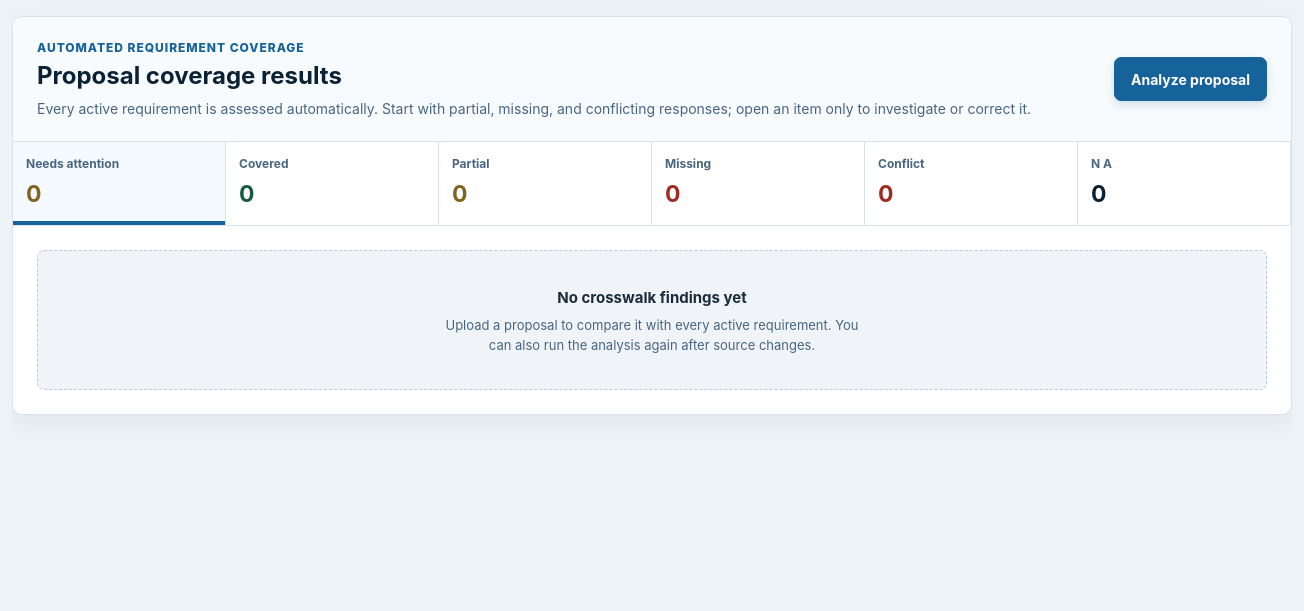
it: product workflow components › reloads findings and preserves the failure detail when manual analysis fails
Click the button "Analyze proposal" at {"x": 1190, "y": 79}, box [1114, 57, 1267, 101]
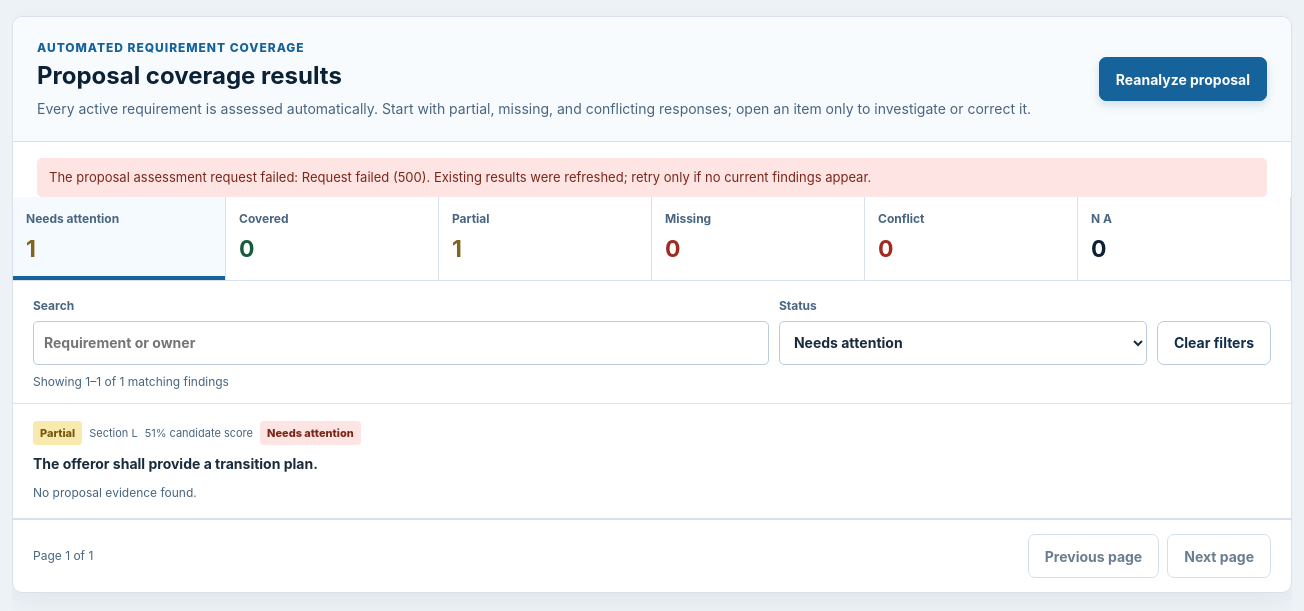
Expected: the button "Reanalyze proposal" is enabled, [1099, 57, 1267, 101]
Expected: the text "The offeror shall provide a transition plan." is shown, [33, 455, 318, 472]
